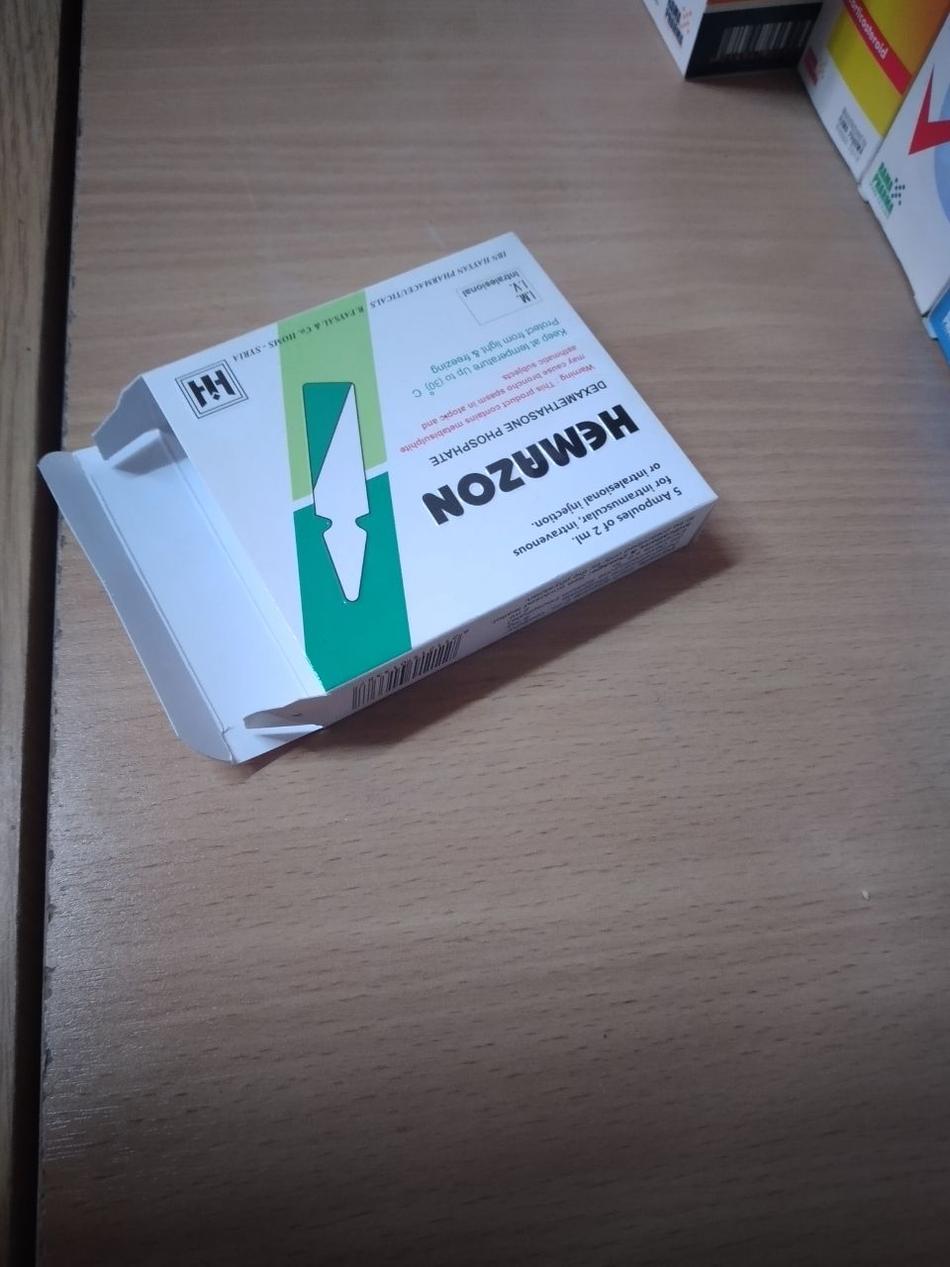Medicine: (132, 224, 745, 723)
